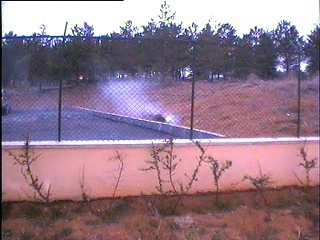smoke: (101, 72, 175, 124)
